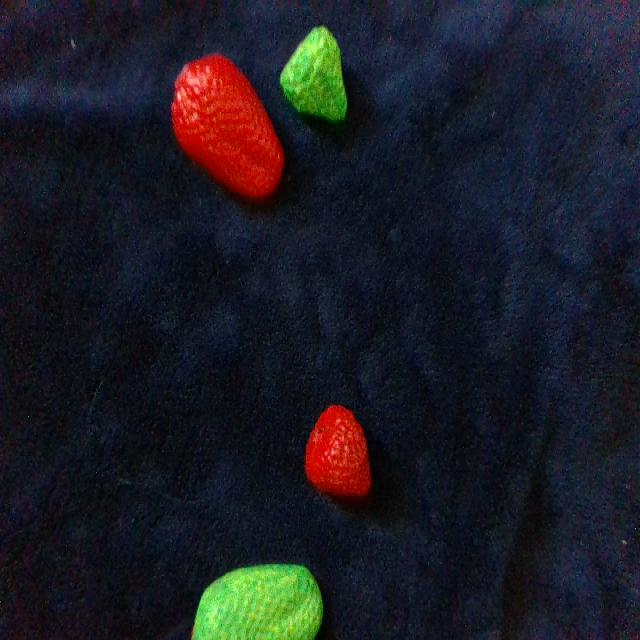chica_roja: (305, 405, 370, 496)
grande_roja: (171, 55, 283, 197)
verde: (192, 565, 322, 639), (280, 27, 346, 121)
